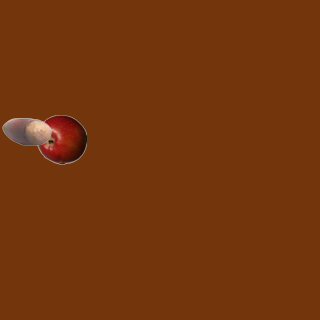Apple Braeburn: (36, 114, 86, 164)
Hazelnut: (1, 106, 51, 156)
